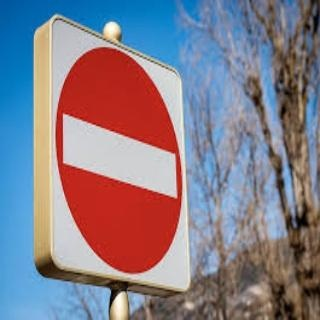sign_noentry: (58, 67, 177, 273)
